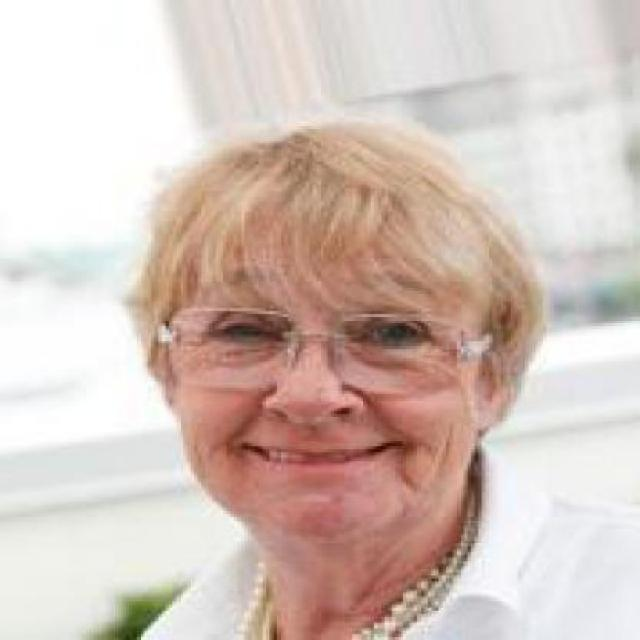closed-mouth: (245, 433, 398, 481)
